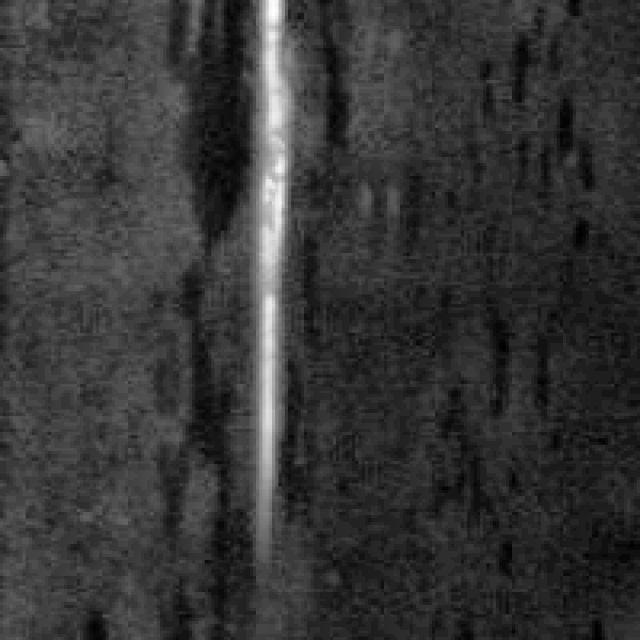Inclusion: (233, 0, 300, 506)
